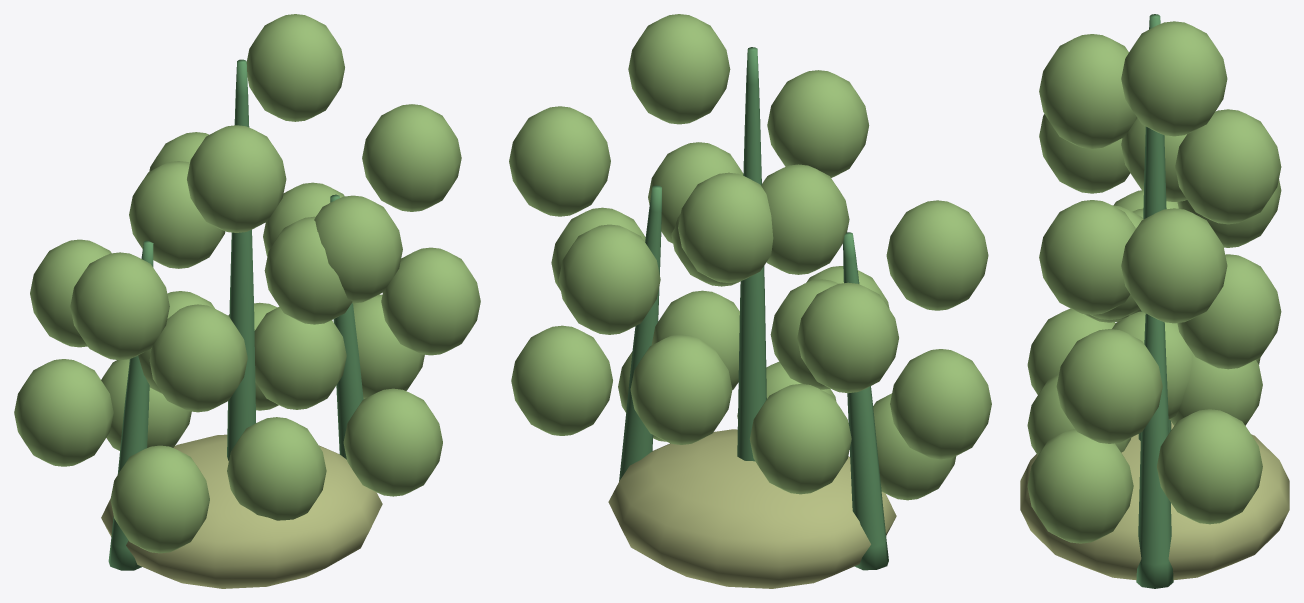
The model's file is seagrape.glb.
The picture shows the model from 3 angles, left to right: view 1: azimuth 30°, elevation 25°; view 2: azimuth 150°, elevation 25°; view 3: azimuth 270°, elevation 25°; orthographic projection. The views are drawn at different scales.
Parts seen in each view (by area): view 1: food_seagrape_painted_mesh; view 2: food_seagrape_painted_mesh; view 3: food_seagrape_painted_mesh.
Boxes of the visible parts, x1,y1,x2,y2 form: food_seagrape_painted_mesh: (14, 14, 480, 588); food_seagrape_painted_mesh: (509, 14, 991, 588); food_seagrape_painted_mesh: (1020, 14, 1289, 588).
Size of the model in its own units: 1.03 by 1.16 by 0.507.
